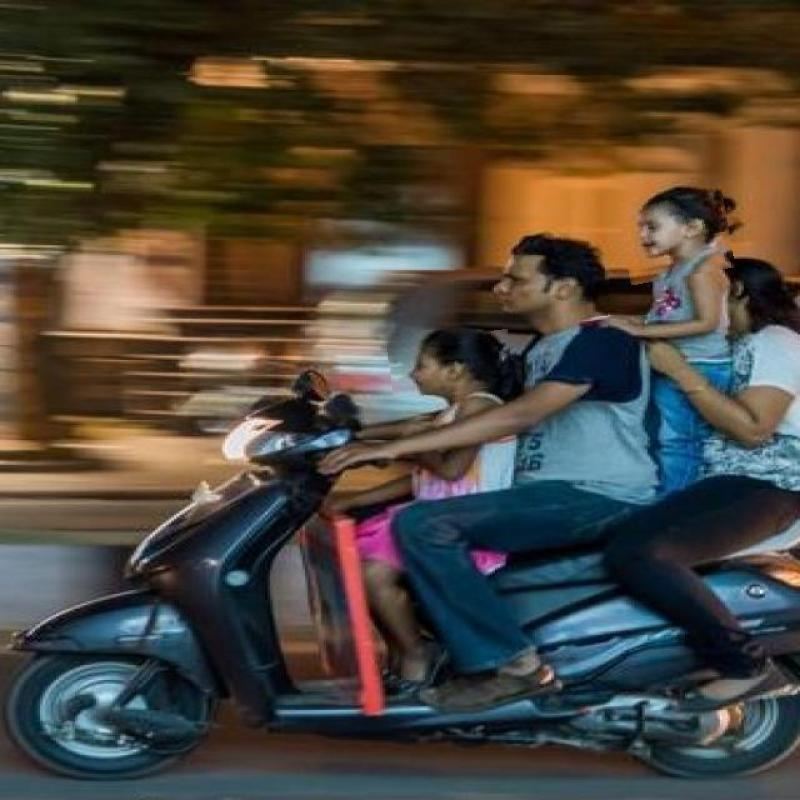nohelmet: (455, 233, 609, 333), (620, 190, 732, 281), (389, 333, 513, 396)
